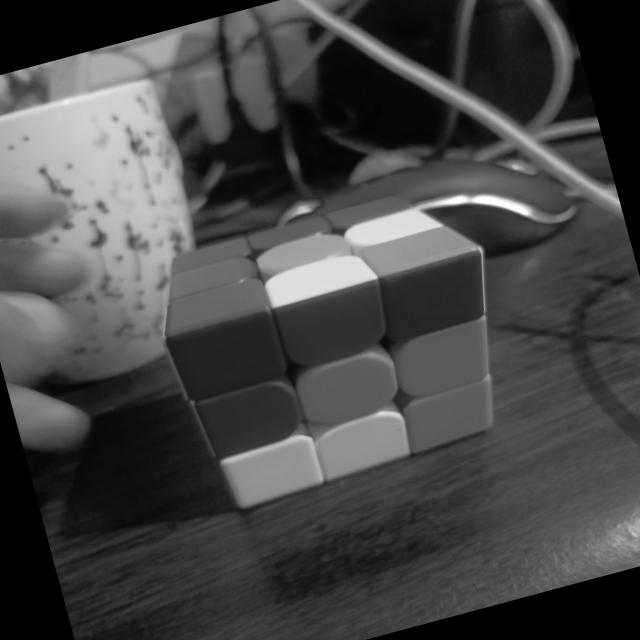rubik: (141, 172, 532, 517)
